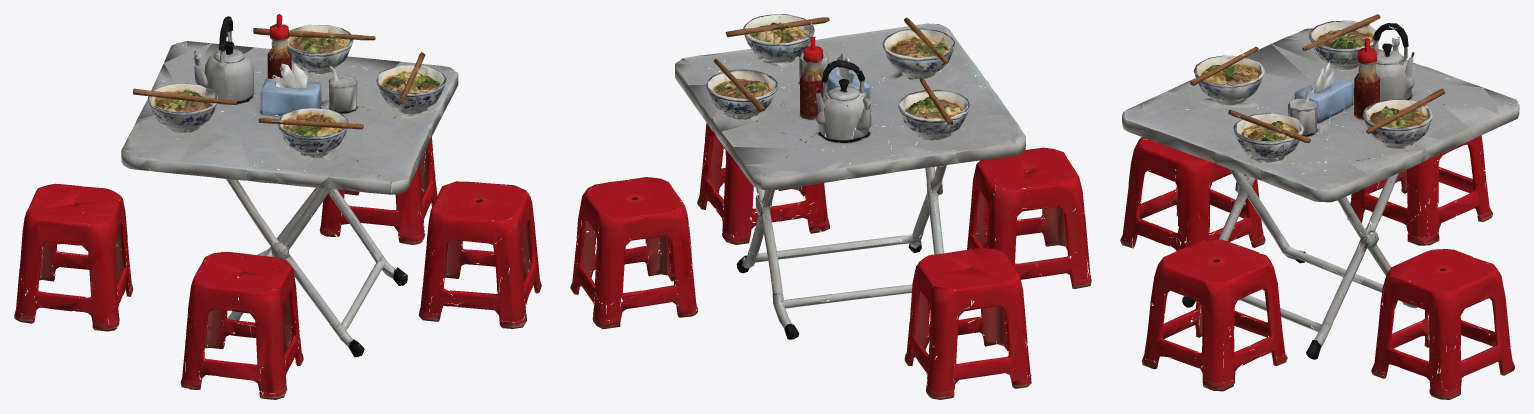
File: m_noodle_table.glb
The picture shows the model from 3 angles, left to right: view 1: azimuth 30°, elevation 25°; view 2: azimuth 150°, elevation 25°; view 3: azimuth 270°, elevation 25°; orthographic projection.
Visible parts, largest first — view 1: tripo_node_65798ca2-a619-4c71-b6ea-128c63d76c7a; view 2: tripo_node_65798ca2-a619-4c71-b6ea-128c63d76c7a; view 3: tripo_node_65798ca2-a619-4c71-b6ea-128c63d76c7a.
Part boxes in pixels (x1,y1,x2,y2): tripo_node_65798ca2-a619-4c71-b6ea-128c63d76c7a: (14, 14, 541, 399); tripo_node_65798ca2-a619-4c71-b6ea-128c63d76c7a: (570, 14, 1091, 399); tripo_node_65798ca2-a619-4c71-b6ea-128c63d76c7a: (1120, 14, 1519, 399).
Size of the model in its own units: 1.41 by 0.8491 by 1.12.
Materials: 1 (1 with a texture image).
